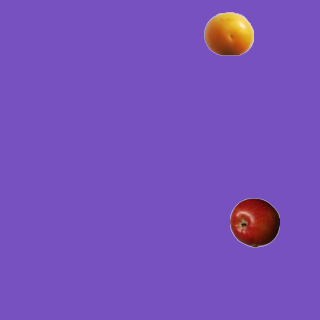Apple Braeburn: (229, 197, 279, 247)
Cherry Wax Yellow: (203, 8, 253, 58)
